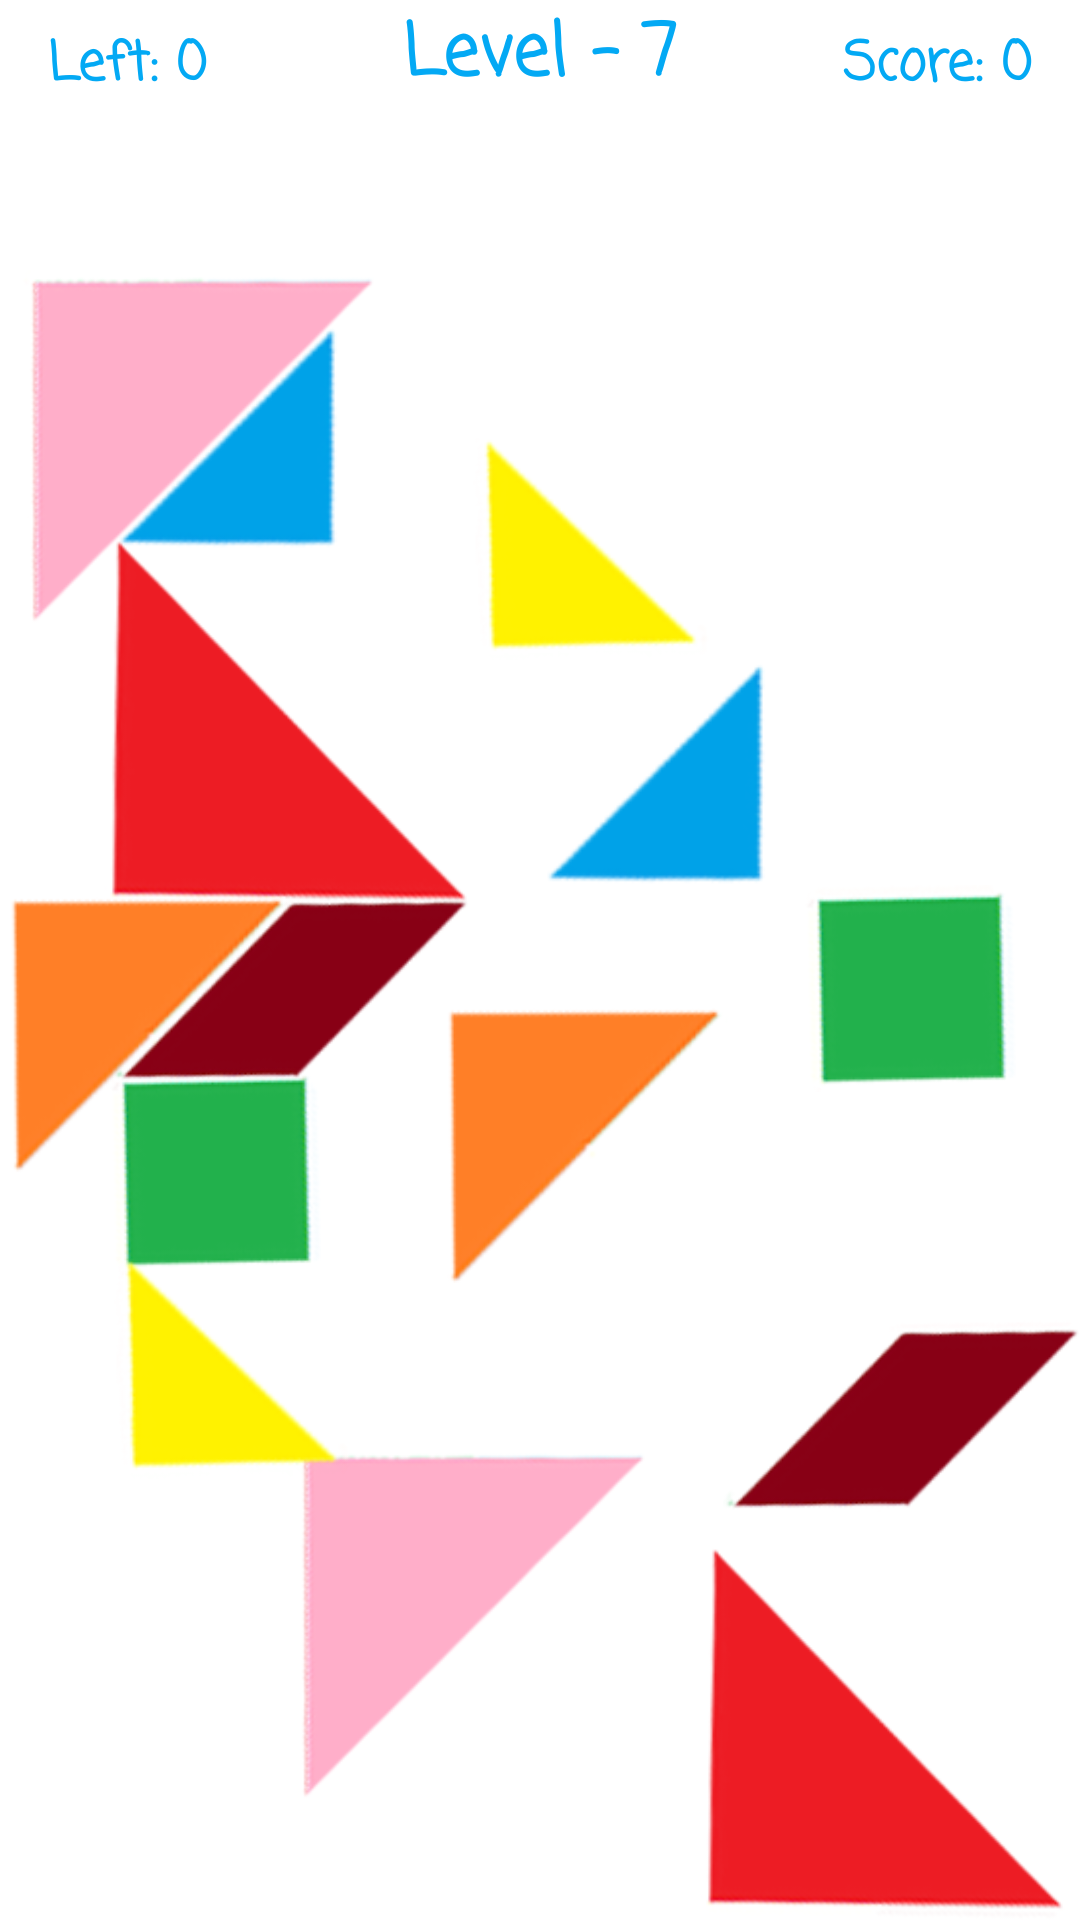

Point at icon controls on the screen. Image size 1080px x 1920px, points as point (x, y).
level sari ucgen: point (590, 545), point (243, 1368)
